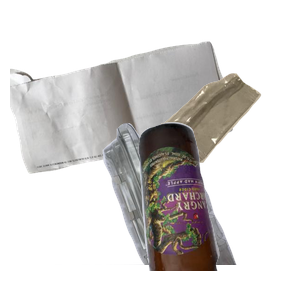glass: (136, 120, 300, 300)
paper: (10, 39, 236, 205)
plastic: (55, 120, 284, 300)
trash: (158, 71, 300, 227)
